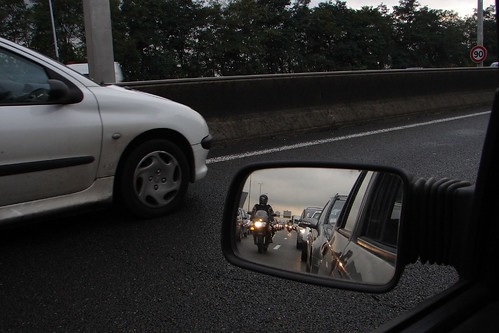car: (1, 22, 215, 214)
motorcycle: (251, 209, 279, 258)
sign: (465, 42, 490, 66)
street: (1, 106, 493, 333)
vegetation: (114, 1, 483, 71)
